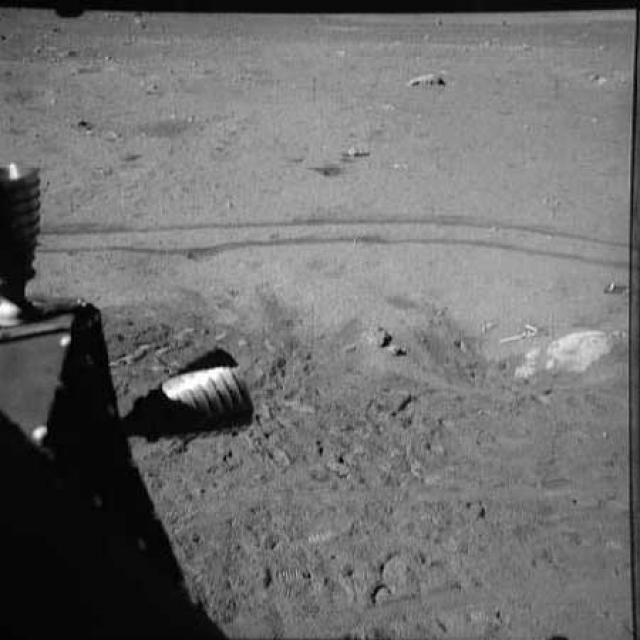artifact: (0, 147, 268, 639)
crater: (360, 309, 617, 401), (0, 79, 54, 111)
rock: (405, 66, 452, 91)
